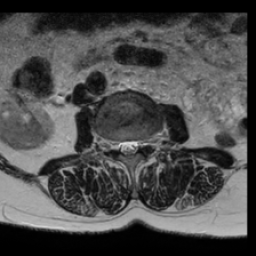CCS_normal: (126, 133, 132, 163)
LFS_normal: (139, 131, 148, 153)
LLS_normal: (132, 133, 139, 156)
RFS_normal: (111, 133, 119, 155)
RLS_normal: (119, 133, 126, 157)
